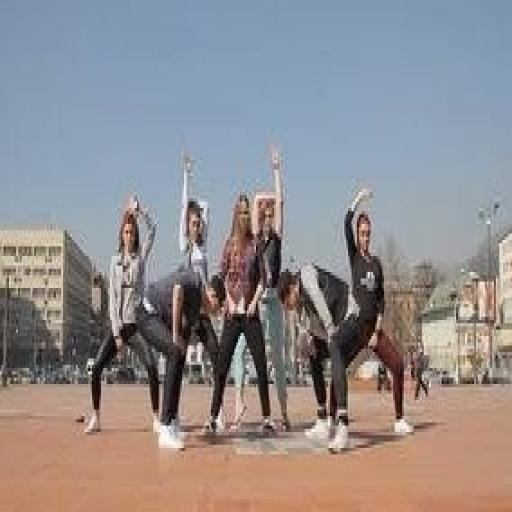dancing: (85, 88, 447, 493)
